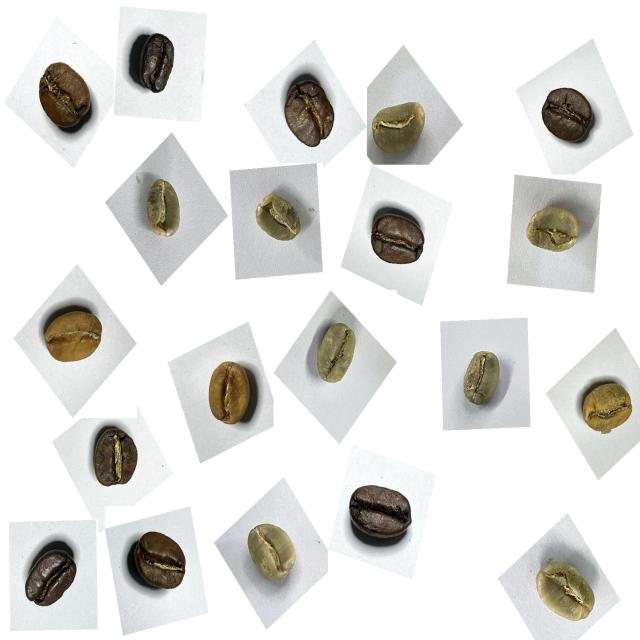dark: (340, 472, 422, 564), (16, 534, 88, 622), (123, 522, 197, 607), (361, 198, 434, 280), (534, 76, 605, 158), (124, 22, 190, 107)
green: (523, 550, 606, 639), (238, 513, 309, 597), (517, 194, 591, 271), (364, 90, 434, 167), (305, 315, 369, 399), (452, 341, 514, 421), (136, 172, 196, 251), (246, 184, 311, 255)
light: (36, 296, 112, 380), (194, 348, 263, 437), (570, 368, 640, 448)
medium: (28, 54, 100, 143), (274, 72, 344, 158), (83, 421, 147, 500)
